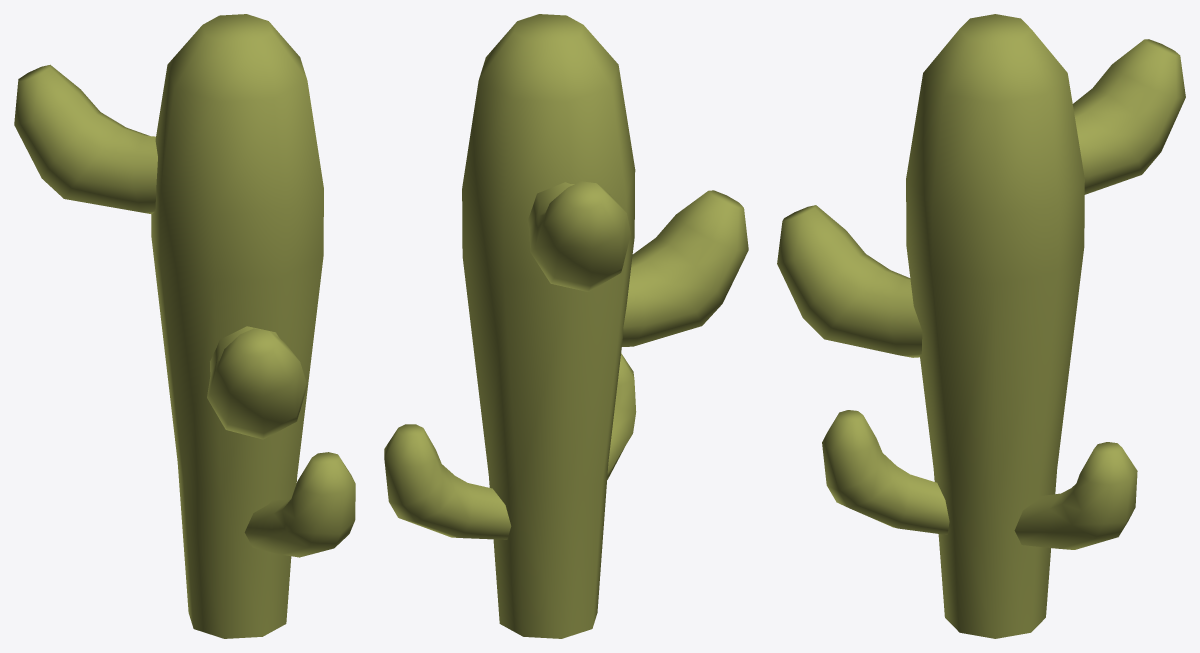
The model's file is fbx_cactus_3.fbx.
3 renders of one model, left to right at view 1: azimuth 30°, elevation 25°; view 2: azimuth 150°, elevation 25°; view 3: azimuth 270°, elevation 25°, orthographic.
Parts seen in each view (by area): view 1: Cylinder.002; view 2: Cylinder.002; view 3: Cylinder.002.
Boxes of the visible parts, bbox=[...] form: Cylinder.002: bbox=[14, 14, 355, 638]; Cylinder.002: bbox=[384, 14, 748, 638]; Cylinder.002: bbox=[777, 14, 1185, 638].
Size of the model in its own units: 56.07 by 124 by 78.24.
